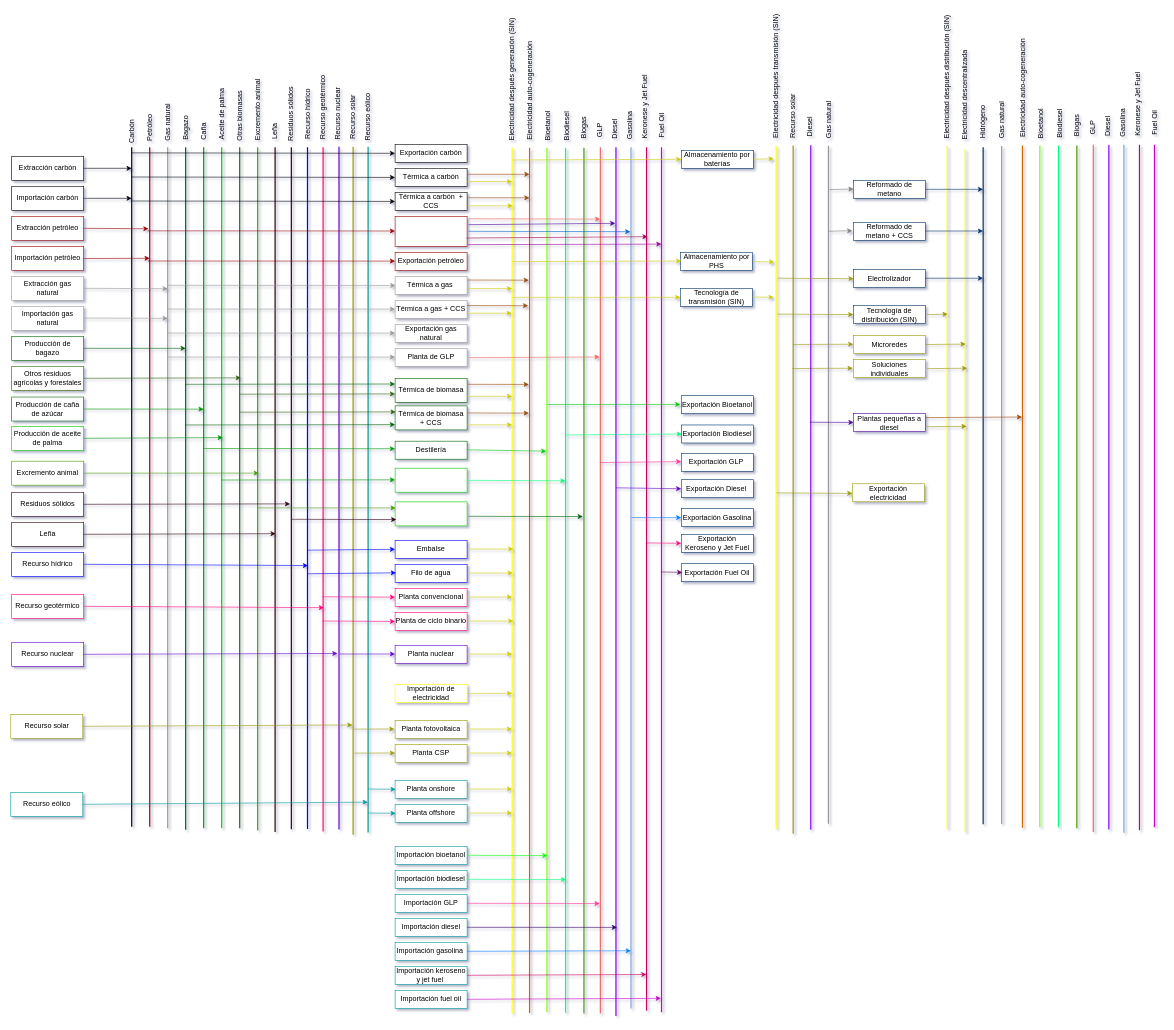
This 1174x1030 diagram has some shape labels left out. Each missing label, with the centre of its shape:
Biodigestor: the point at 430,513
Planta de biodiesel: the point at 430,480
Refinería: the point at 430,231
